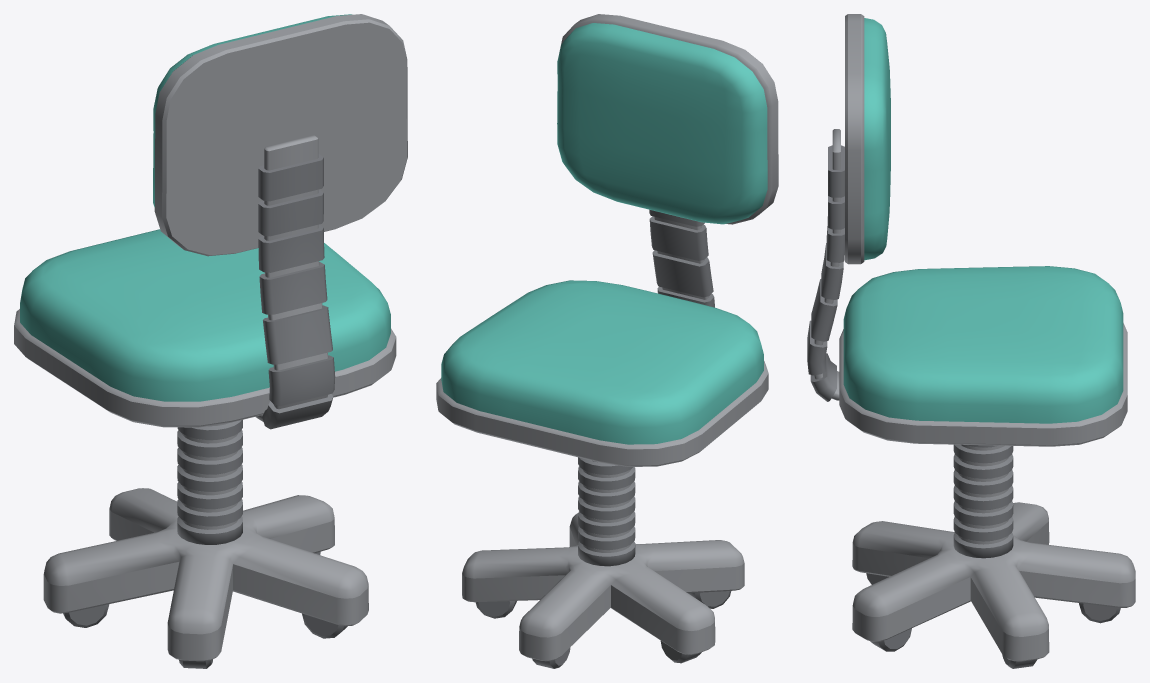
File: Computer_chair.fbx
3 renders of one model, left to right at view 1: azimuth 30°, elevation 25°; view 2: azimuth 150°, elevation 25°; view 3: azimuth 270°, elevation 25°, orthographic. The views are drawn at different scales.
Parts seen in each view (by area): view 1: Computer_chair; view 2: Computer_chair; view 3: Computer_chair.
Part boxes in pixels (<box>): Computer_chair: <box>14,14,407,668</box>; Computer_chair: <box>436,14,778,668</box>; Computer_chair: <box>807,14,1135,668</box>.
Bounding box in the file's own units: 0.443 × 0.9085 × 0.4731.
